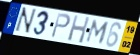3: (32, 10, 51, 37)
6: (104, 22, 123, 49)
H: (66, 15, 91, 45)
M: (84, 19, 111, 45)
N: (13, 7, 38, 35)
P: (50, 12, 71, 40)
